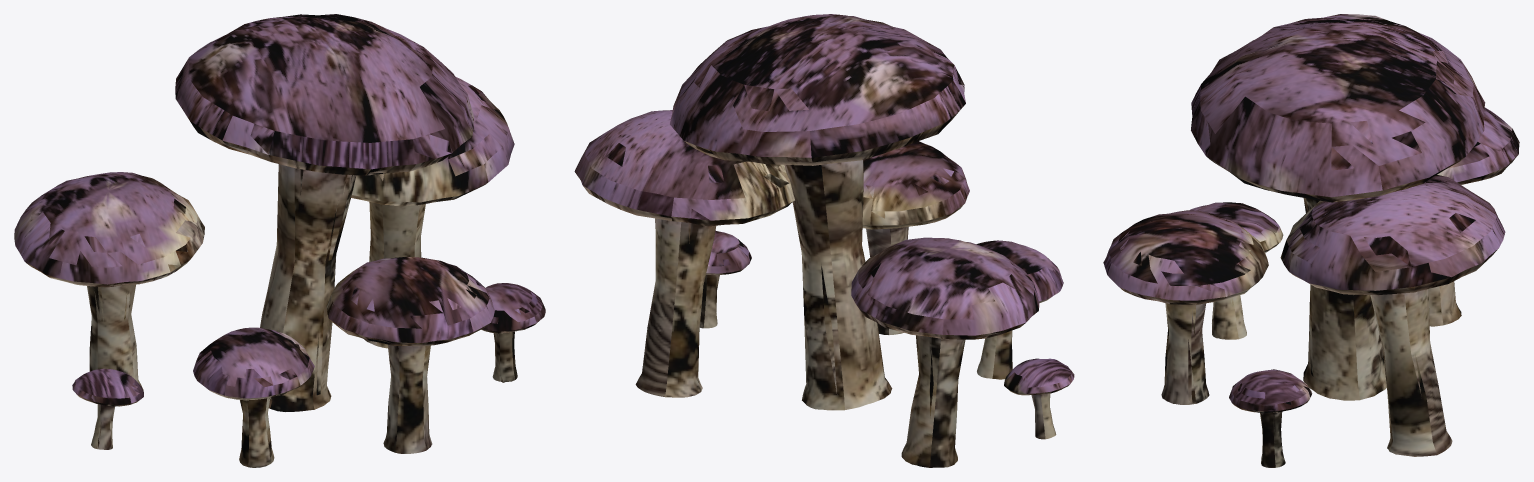
Rendered from mushroom-cluster-v01-photo.glb.
3 renders of one model, left to right at view 1: azimuth 30°, elevation 25°; view 2: azimuth 150°, elevation 25°; view 3: azimuth 270°, elevation 25°, orthographic.
Parts seen in each view (by area): view 1: mushroom-cluster; view 2: mushroom-cluster; view 3: mushroom-cluster.
Part boxes in pixels (left/top/right/bottom): mushroom-cluster: left=14, top=14, right=545, bottom=467; mushroom-cluster: left=574, top=14, right=1074, bottom=467; mushroom-cluster: left=1103, top=14, right=1519, bottom=467.
Bounding box in the file's own units: 1.77 × 1.35 × 1.42.
Materials: 1 (1 with a texture image).
